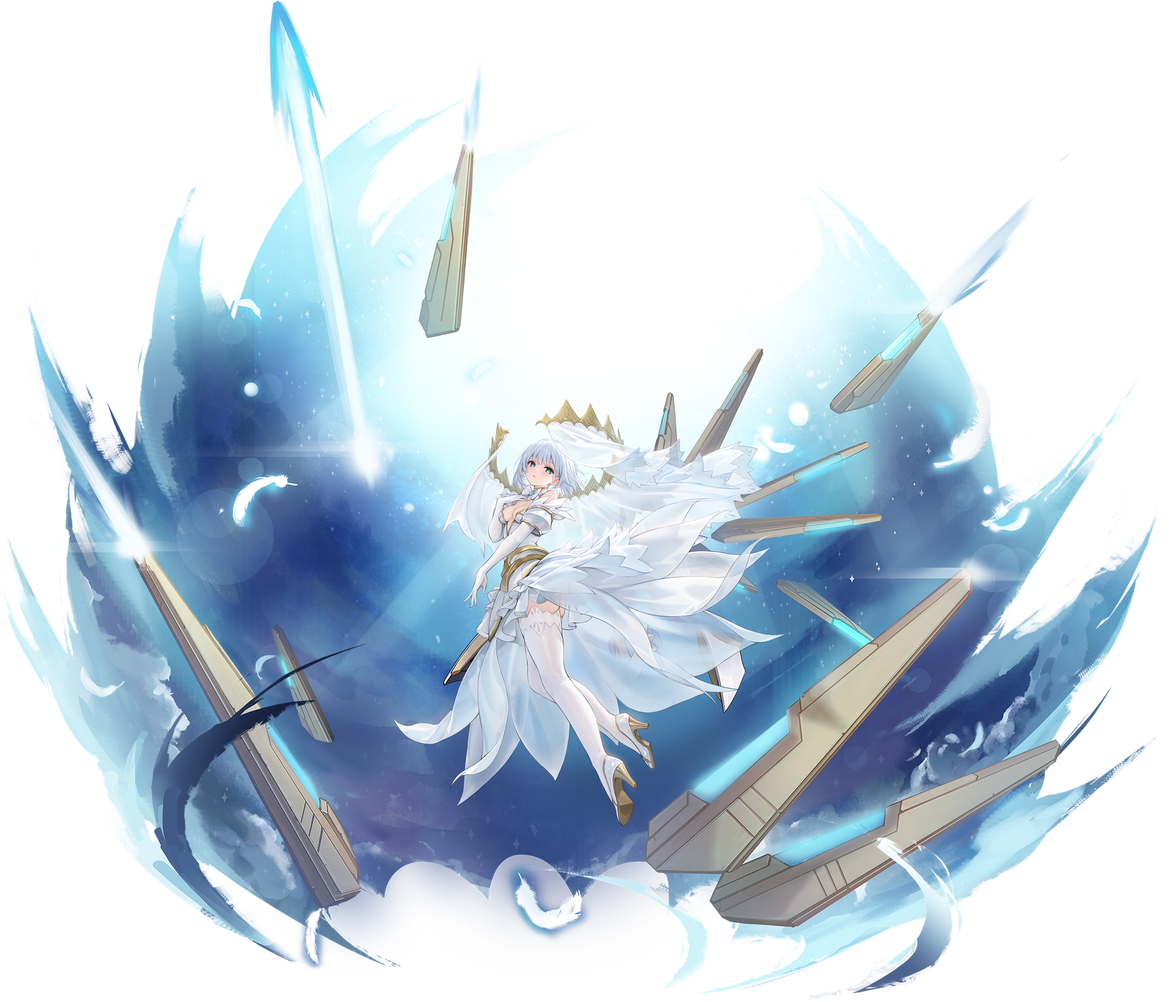person: (376, 374, 736, 863)
